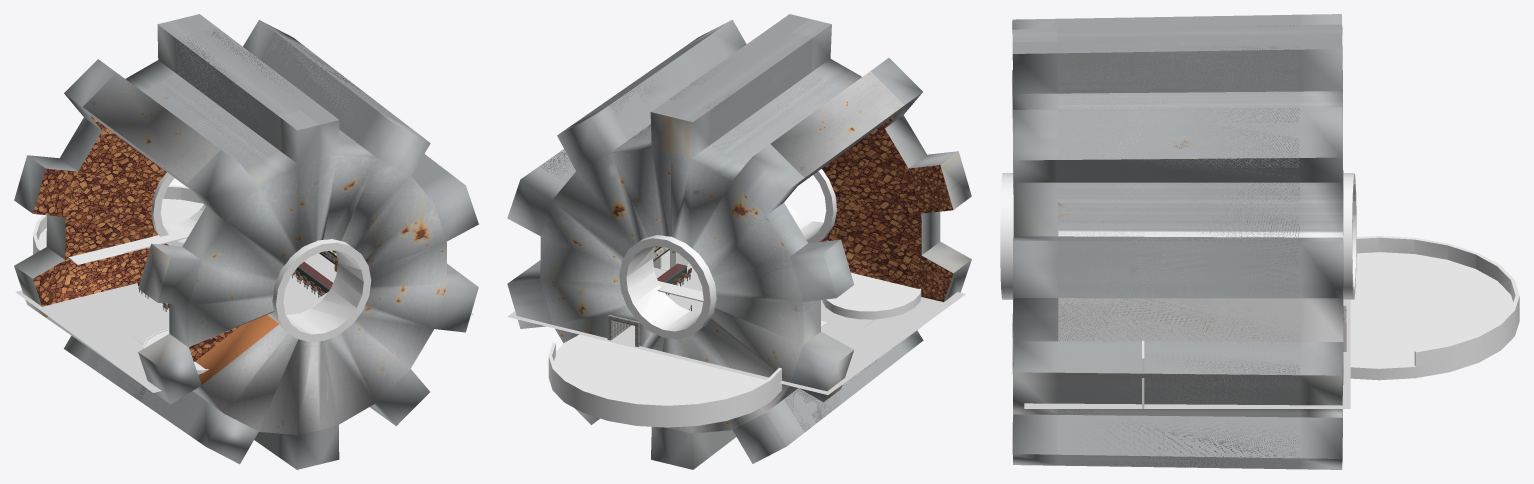
The model's file is Bar.fbx.
The picture shows the model from 3 angles, left to right: view 1: azimuth 30°, elevation 25°; view 2: azimuth 150°, elevation 25°; view 3: azimuth 270°, elevation 25°; orthographic projection. The views are drawn at different scales.
Parts seen in each view (by area): view 1: Bar Shall, Plane, window_frame.001, 2F Floor, window_frame, balcony, balcony fence, BarTable; view 2: Bar Shall, balcony, Plane, window_frame, balcony fence, StagePlane, window_frame.001, StageFrame, 2F Floor; view 3: Bar Shall, balcony, balcony fence, Plane, window_frame, window_frame.001.
Part boxes in pixels (x1,y1,x2,y2): Bar Shall: [14, 14, 478, 469]; Plane: [15, 250, 473, 392]; window_frame.001: [267, 239, 371, 341]; 2F Floor: [68, 226, 335, 312]; window_frame: [151, 172, 205, 246]; balcony: [33, 198, 203, 254]; balcony fence: [33, 185, 202, 253]; BarTable: [295, 261, 332, 292]; Bar Shall: [507, 14, 971, 469]; balcony: [548, 334, 781, 427]; Plane: [507, 250, 965, 394]; window_frame: [619, 235, 716, 339]; balcony fence: [548, 342, 781, 419]; StagePlane: [828, 272, 919, 310]; window_frame.001: [784, 169, 836, 242]; StageFrame: [822, 288, 921, 319]; 2F Floor: [657, 281, 826, 327]; Bar Shall: [1012, 14, 1346, 469]; balcony: [1350, 252, 1519, 380]; balcony fence: [1356, 236, 1519, 367]; Plane: [1024, 300, 1350, 408]; window_frame: [1343, 173, 1356, 299]; window_frame.001: [1000, 173, 1013, 299].
Size of the model in its own units: 517 by 522 by 598.
